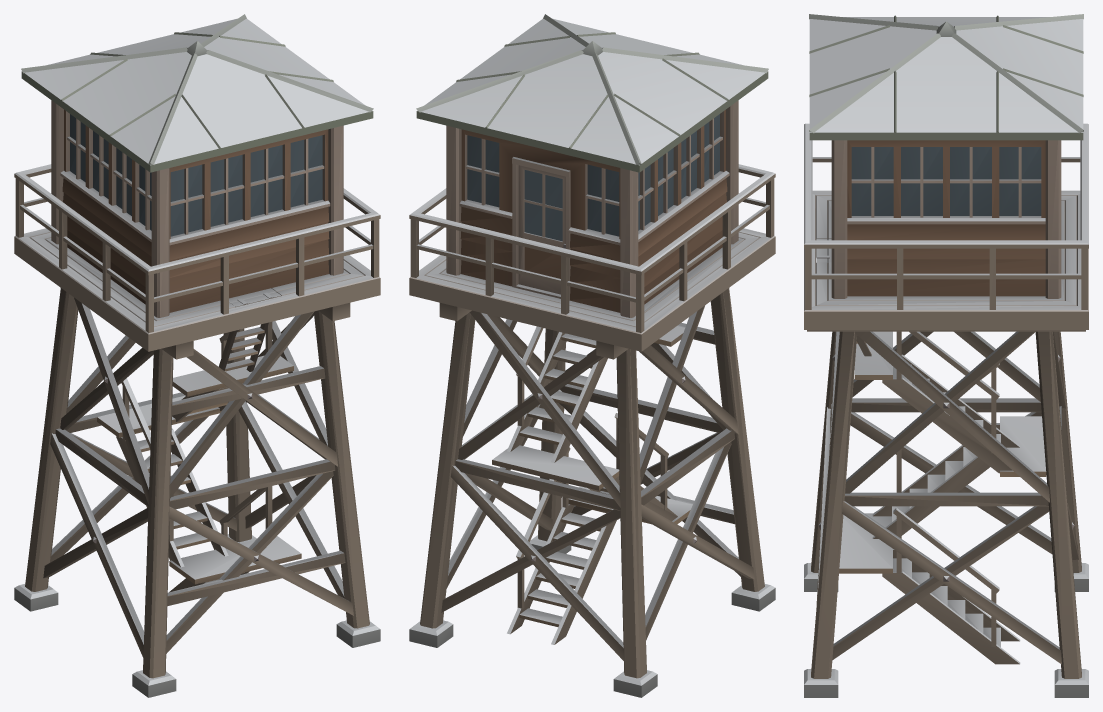
File: lookout.glb
3 renders of one model, left to right at view 1: azimuth 30°, elevation 25°; view 2: azimuth 150°, elevation 25°; view 3: azimuth 270°, elevation 25°, orthographic. The views are drawn at different scales.
Parts seen in each view (by area): view 1: lookout; view 2: lookout; view 3: lookout.
Boxes of the visible parts, <box> form: lookout: <box>14,14,380,697</box>; lookout: <box>409,14,775,697</box>; lookout: <box>804,14,1088,697</box>.
Size of the model in its own units: 5.2 by 12.41 by 5.2.
